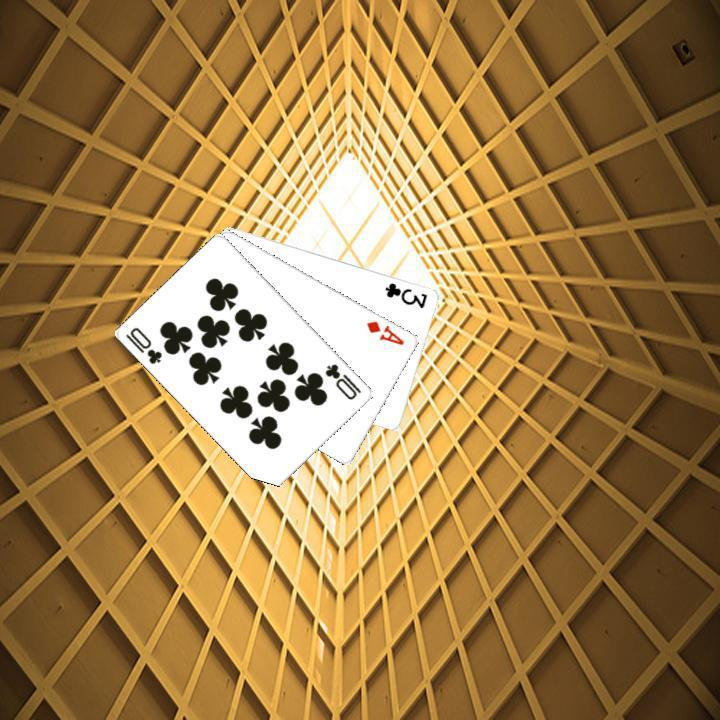10: (321, 359, 364, 402), (122, 323, 165, 366)
3: (381, 278, 430, 310)
A: (362, 316, 407, 347)
